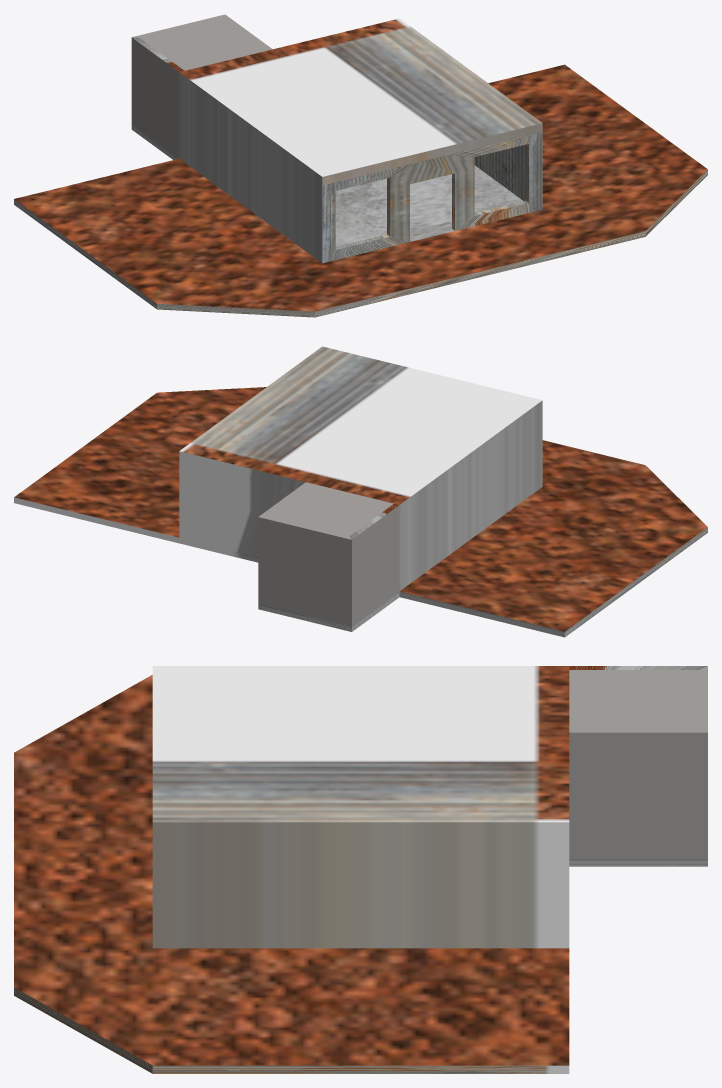
The model's file is testmap.fbx.
3 views of the same model, one above another, from view 1: azimuth 30°, elevation 25°; view 2: azimuth 150°, elevation 25°; view 3: azimuth 270°, elevation 25° (orthographic). The views are drawn at different scales.
Parts seen in each view (by area): view 1: Map; view 2: Map; view 3: Map.
Part boxes in pixels (<box>): Map: <box>14,14,707,317</box>; Map: <box>14,346,707,637</box>; Map: <box>14,666,707,1073</box>.
Bounding box in the file's own units: 2000 × 320 × 1500.
